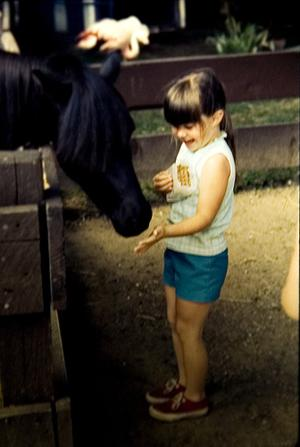person: (133, 68, 238, 419)
